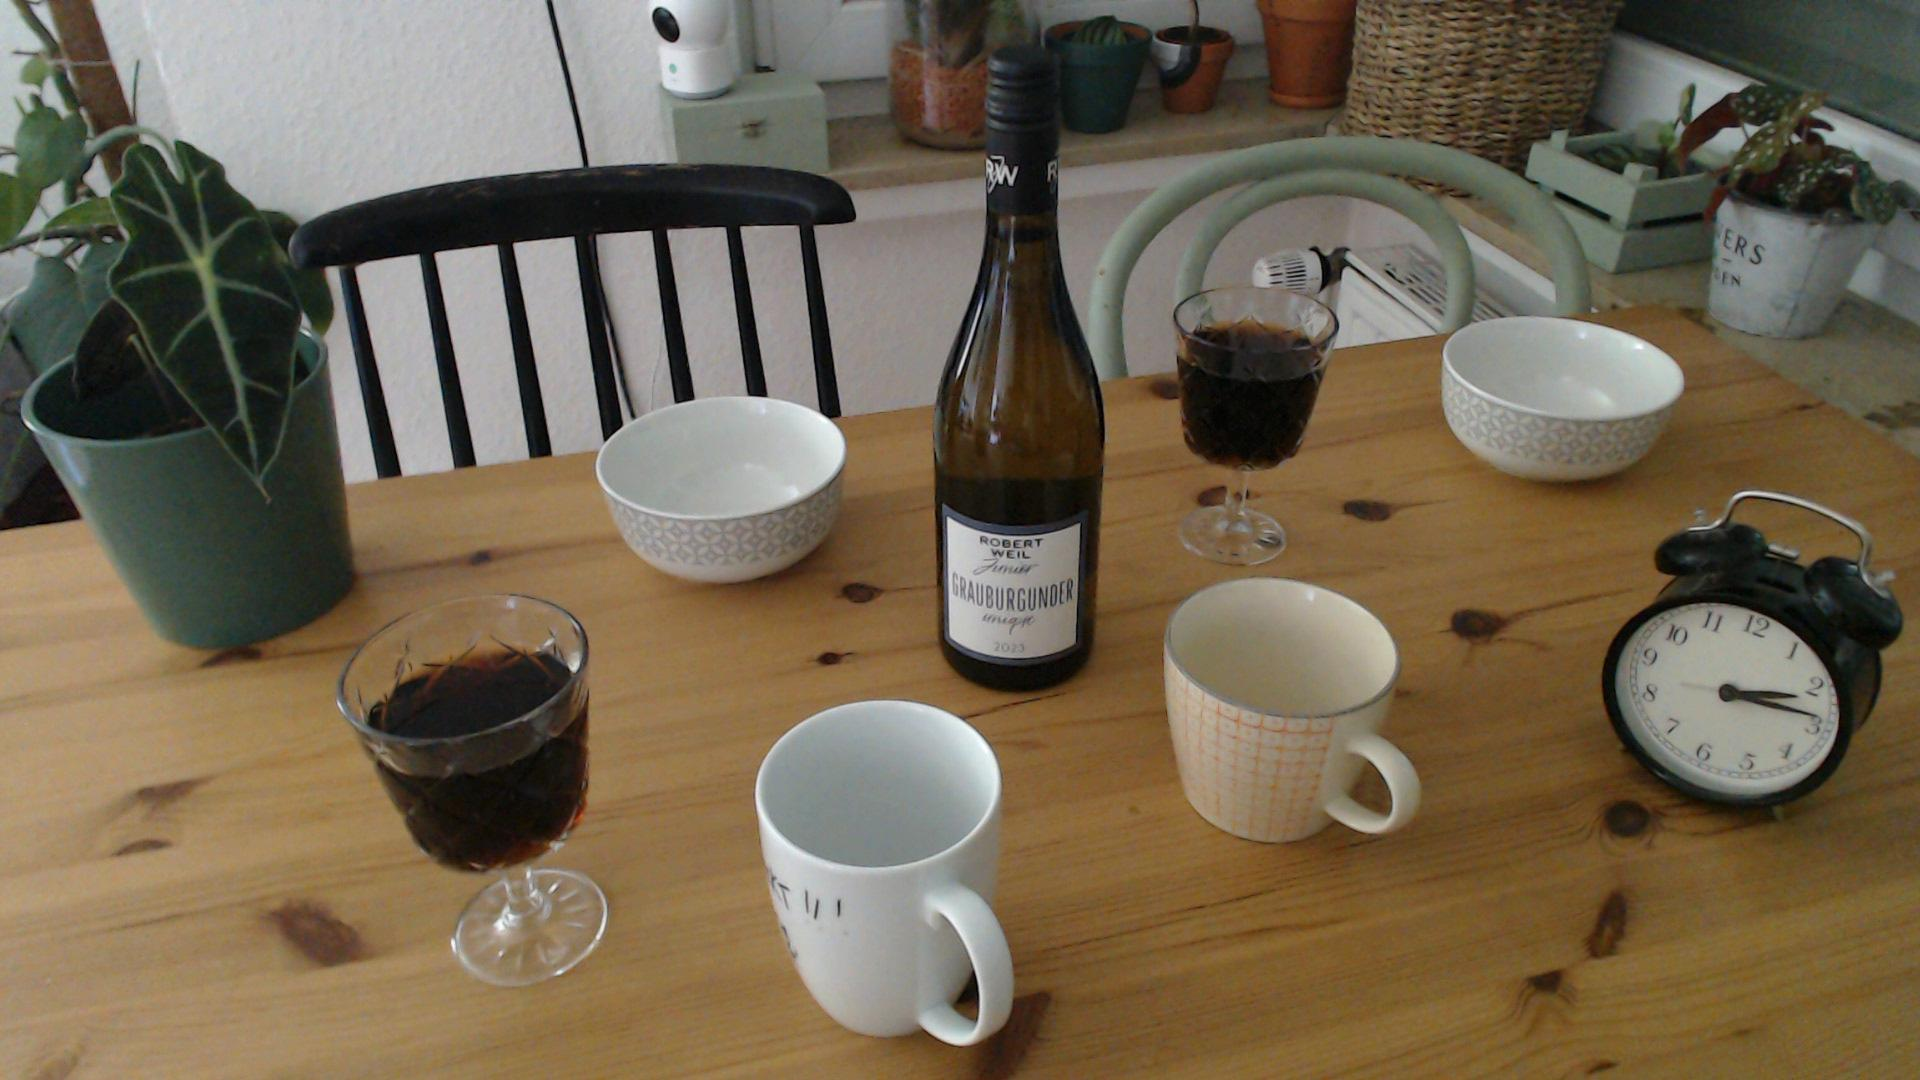bottle: (932, 44, 1106, 690)
bowl_close: (593, 394, 848, 584)
bowl_far: (1440, 313, 1687, 484)
clock: (1607, 596, 1846, 804)
cup_close: (754, 698, 1015, 1051)
cup_far: (1163, 578, 1423, 847)
potted_plant: (22, 136, 357, 654)
wineglass_close: (338, 588, 608, 986)
wineglass_far: (1172, 284, 1338, 564)
